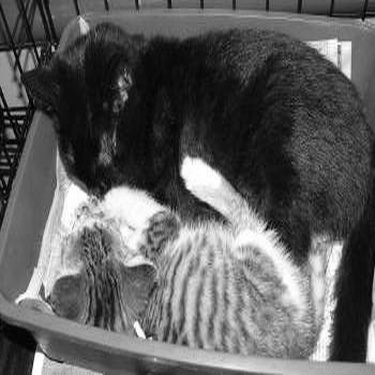cat: (27, 13, 365, 253), (1, 156, 343, 359)
